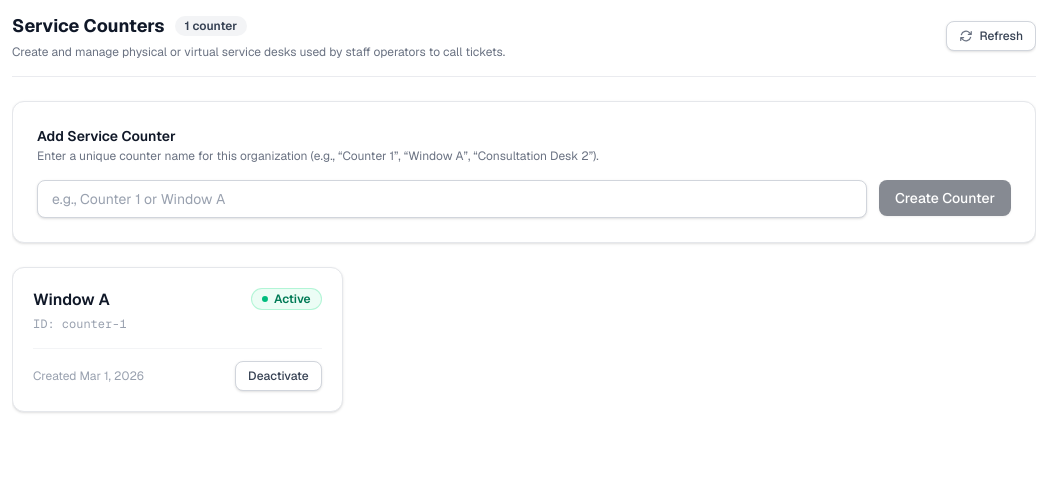
Test: components/admin/CounterManagement › Counter activation and deactivation controls › handles request failure and keeps UI status consistent without false optimistic updates
Check: the heading "Window A" is shown, box x1=33 y1=289 x2=110 y2=310
Check: the text "Active" is shown, box x1=251 y1=288 x2=322 y2=310
Click the button with aria-label "deactivate window a" at (278, 376), box x1=235 y1=361 x2=322 y2=391
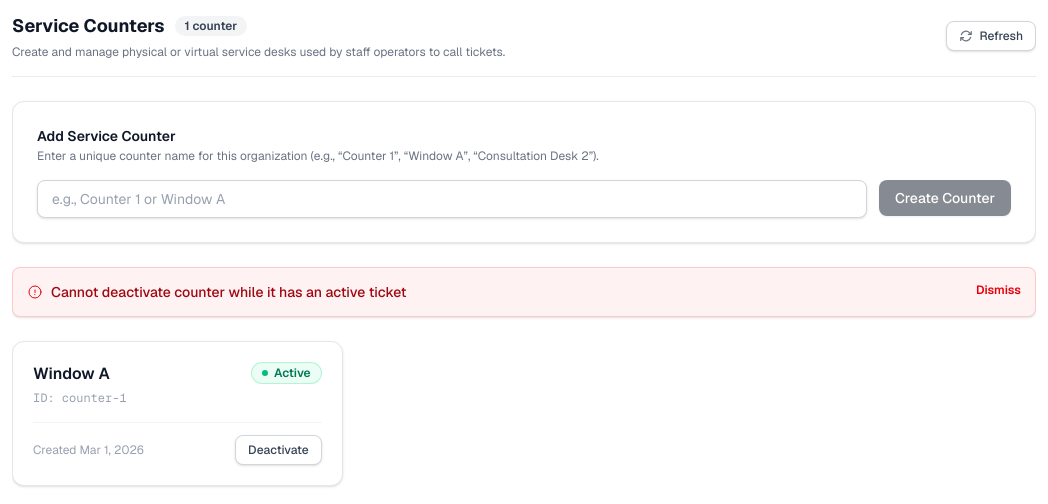
Check: the text "Active" is shown, box x1=251 y1=362 x2=322 y2=384
Check: the text "Cannot deactivate counter while it has an active ticket" is shown, box x1=51 y1=282 x2=407 y2=302
